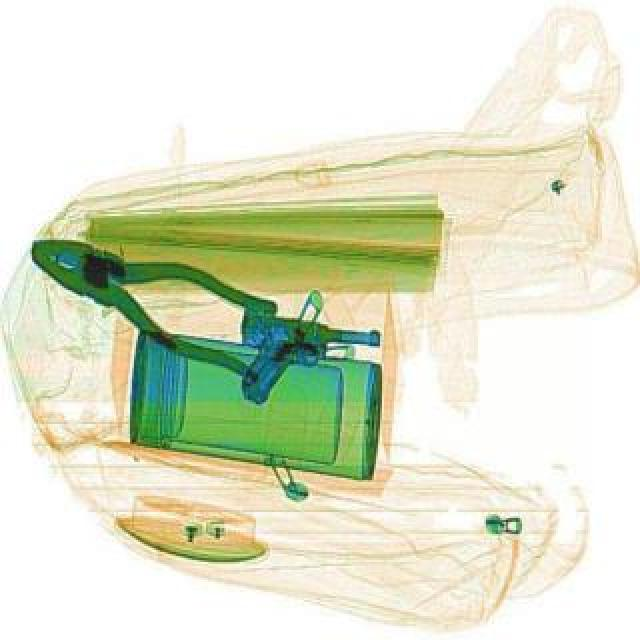gun: (228, 302, 384, 420)
wrench: (10, 208, 280, 380)
